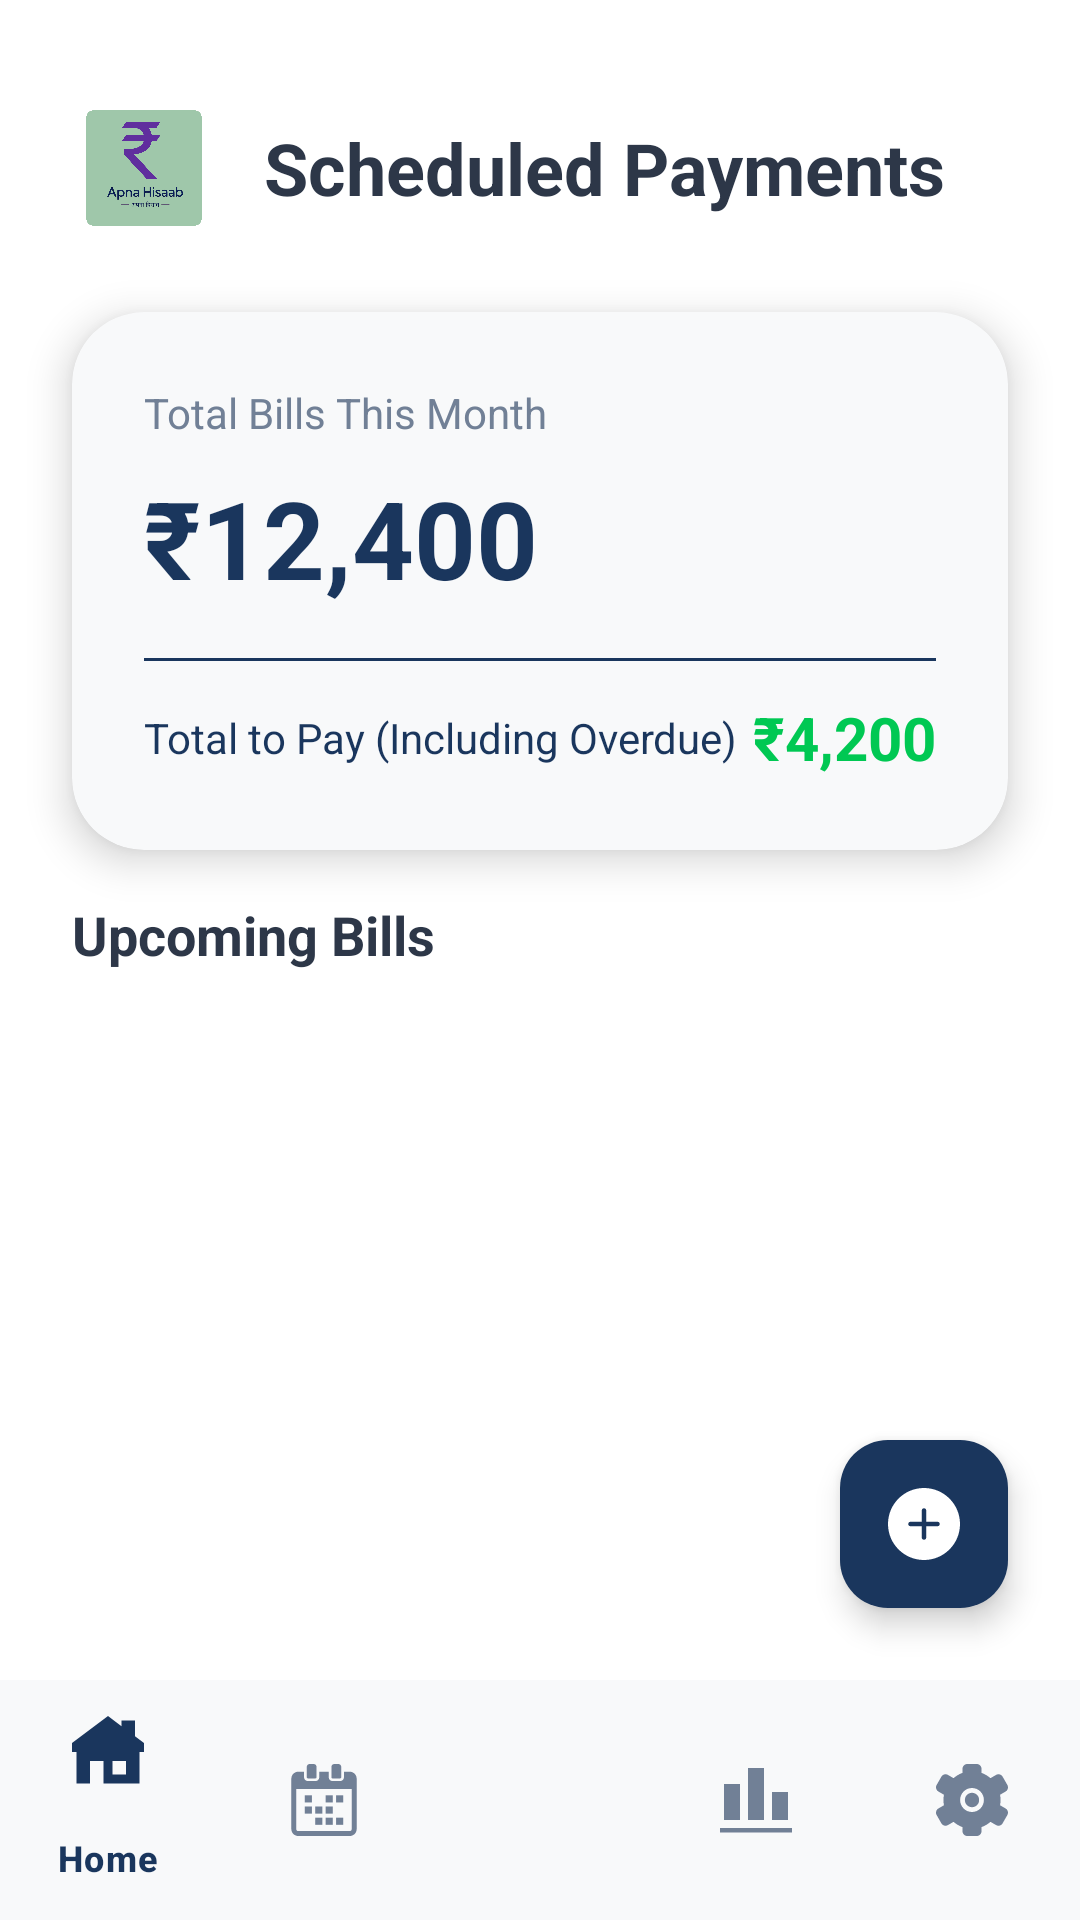

Where icons sit on this 1080 x 1920 app screen, as (x1, y1, x2, y2):
add: (840, 1440, 1008, 1608)
